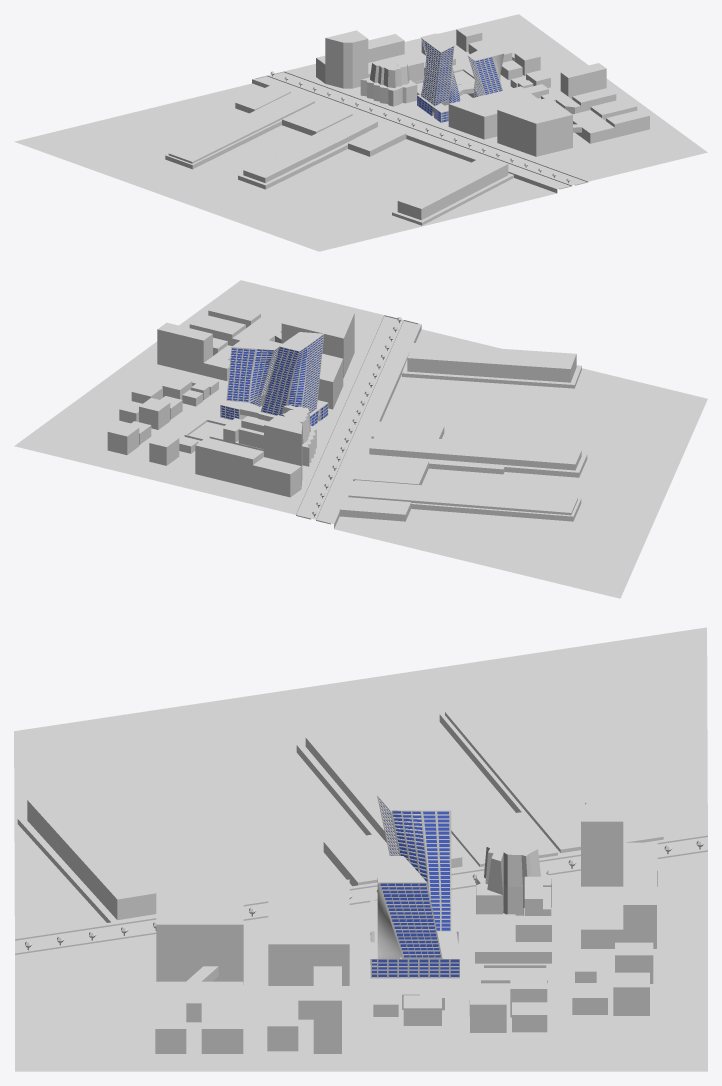
Rendered from eleventh_detailed_outside.fbx.
3 renders of one model, top to bottom at view 1: azimuth 30°, elevation 25°; view 2: azimuth 150°, elevation 25°; view 3: azimuth 270°, elevation 25°, orthographic. The views are drawn at different scales.
Parts seen in each view (by area): view 1: Plane, Plane.001, Cube.039, Cube.022, Cube.023, Cube.019, Cube.024, Cube.025, tower_big, Cube.021, tower_small, base (+3 smaller); view 2: Plane, Plane.001, Cube.039, Cube.023, tower_big, Cube.025, Cube.022, tower_small, Cube.024, Cube.020, base, Cube.019 (+5 smaller); view 3: Plane, Plane.001, Cube.039, Cube.023, Cube.022, Cube.019, Cube.024, tower_big, tower_small, Cube.025, Cube.020, Cube.021 (+9 smaller).
Boxes of the visible parts, bbox=[...] form: Plane: bbox=[14, 14, 707, 251]; Plane.001: bbox=[165, 85, 406, 189]; Cube.039: bbox=[392, 155, 513, 225]; Cube.022: bbox=[497, 97, 572, 156]; Cube.023: bbox=[316, 30, 412, 88]; Cube.019: bbox=[448, 86, 538, 139]; Cube.024: bbox=[573, 98, 649, 143]; Cube.025: bbox=[541, 63, 616, 114]; tower_big: bbox=[421, 33, 458, 105]; Cube.021: bbox=[360, 59, 417, 106]; tower_small: bbox=[468, 44, 504, 95]; base: bbox=[417, 80, 480, 122]; Plane: bbox=[14, 280, 707, 598]; Plane.001: bbox=[339, 421, 587, 521]; Cube.039: bbox=[402, 342, 581, 388]; Cube.023: bbox=[195, 415, 302, 497]; tower_big: bbox=[260, 332, 323, 415]; Cube.025: bbox=[157, 322, 232, 380]; Cube.022: bbox=[281, 302, 354, 378]; tower_small: bbox=[226, 335, 282, 402]; Cube.024: bbox=[189, 303, 281, 345]; Cube.020: bbox=[209, 416, 268, 451]; base: bbox=[220, 394, 328, 426]; Cube.019: bbox=[317, 353, 343, 409]; Plane: bbox=[14, 627, 707, 1071]; Plane.001: bbox=[296, 703, 663, 886]; Cube.039: bbox=[17, 791, 168, 922]; Cube.023: bbox=[581, 794, 657, 948]; Cube.022: bbox=[156, 878, 243, 984]; Cube.019: bbox=[268, 879, 349, 985]; Cube.024: bbox=[155, 966, 243, 1053]; tower_big: bbox=[377, 795, 451, 931]; tower_small: bbox=[377, 856, 442, 958]; Cube.025: bbox=[267, 966, 341, 1053]; Cube.020: bbox=[475, 876, 551, 963]; Cube.021: bbox=[476, 838, 551, 915].
Size of the model in its own units: 92899 by 12930 by 60298.
